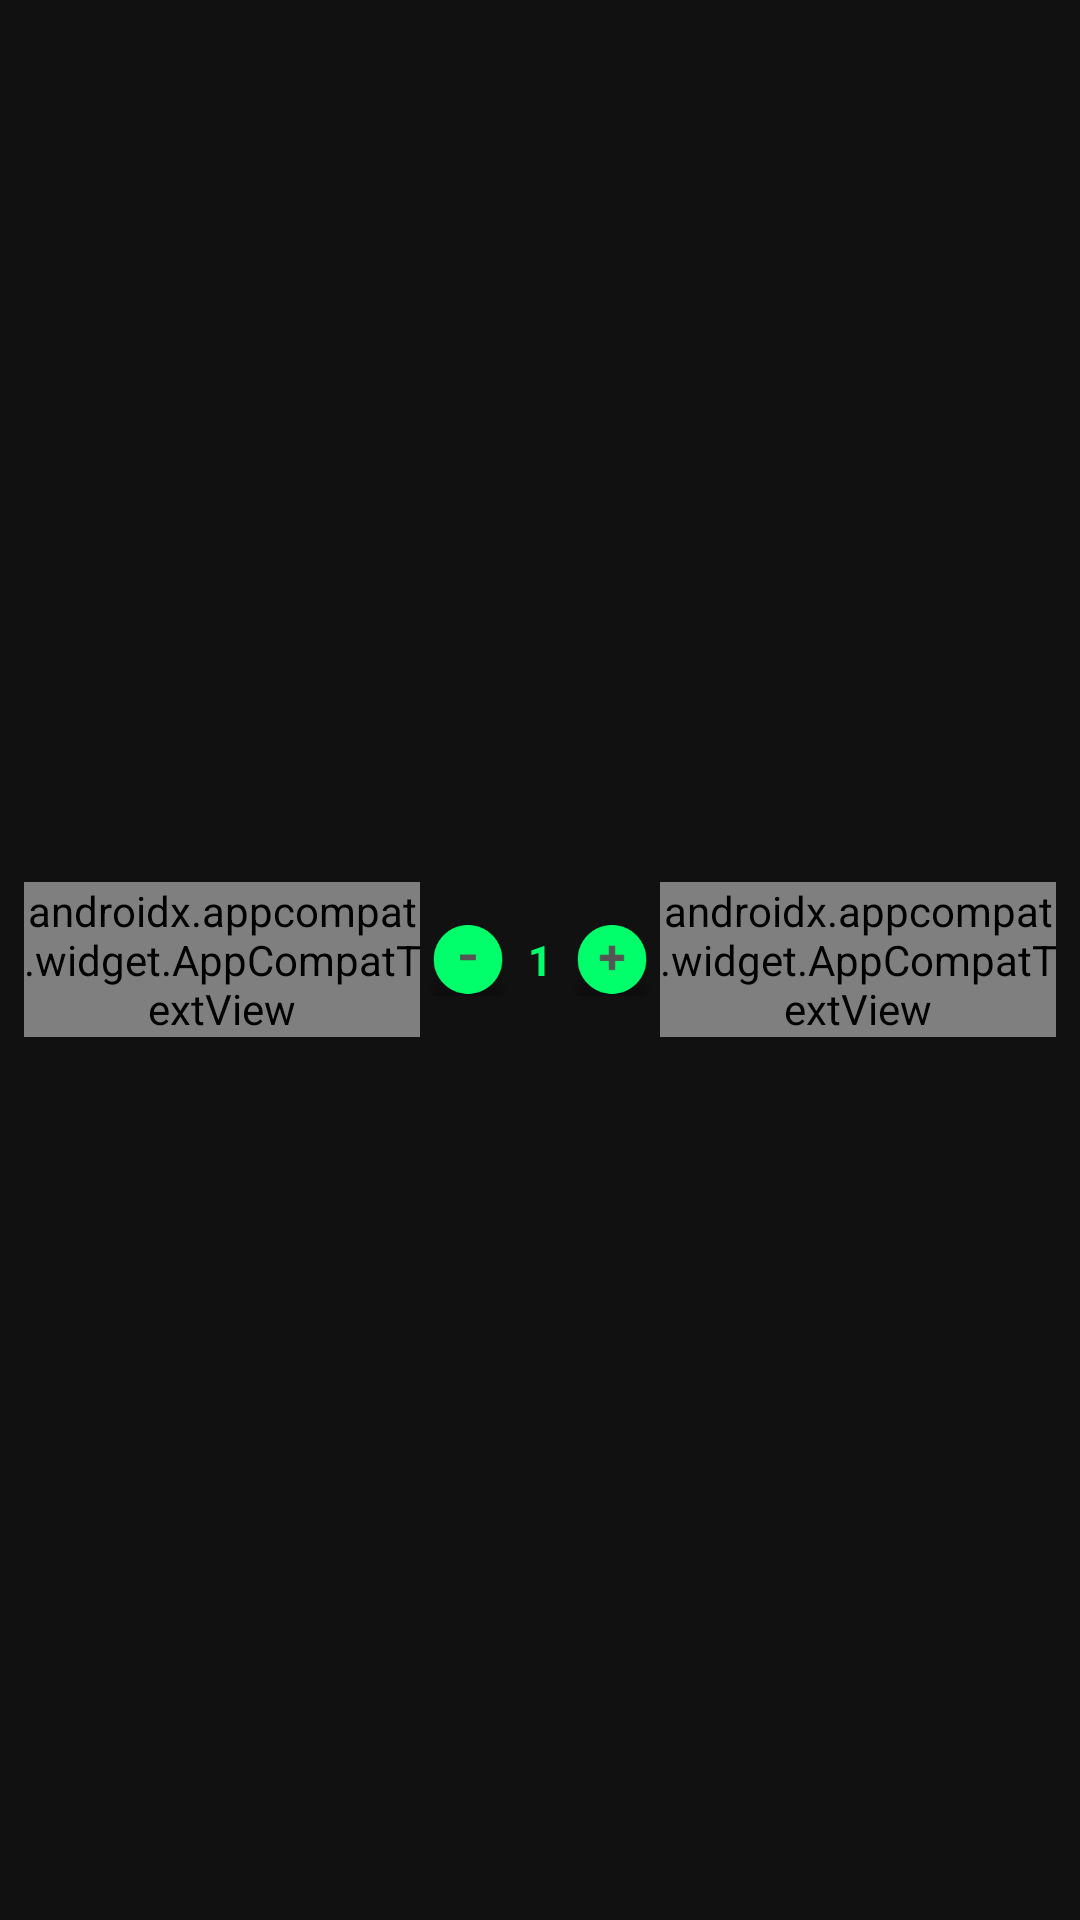

Where icons sit on this 1080*1920 app screen, as (x1, y1, x2, y2):
minus: (433, 925, 503, 994)
plus: (577, 925, 647, 994)
